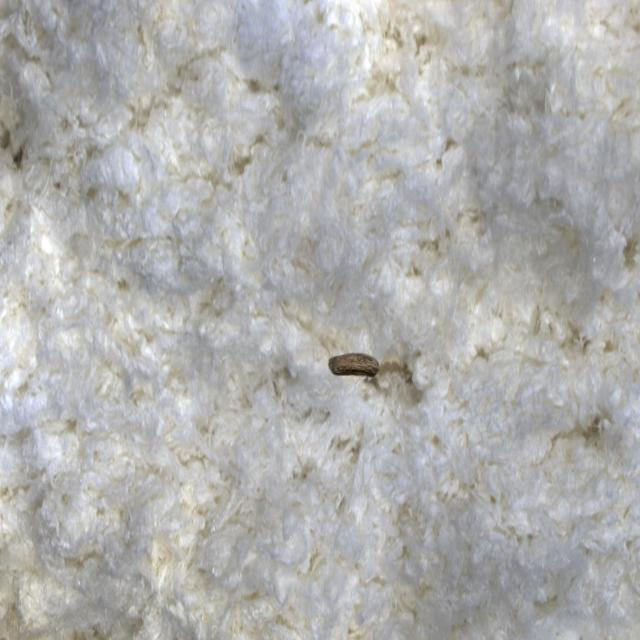dust: (307, 310, 397, 429)
